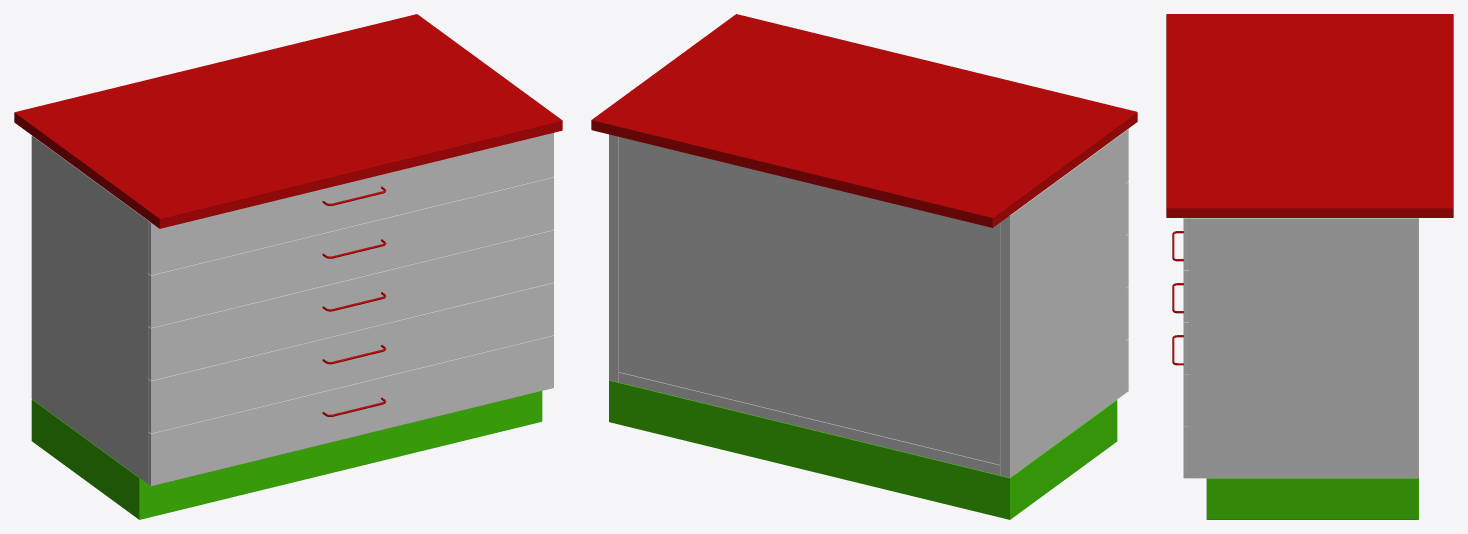
The model's file is Bench02.fbx.
3 views of the same model, side by side, from view 1: azimuth 30°, elevation 25°; view 2: azimuth 150°, elevation 25°; view 3: azimuth 270°, elevation 25° (orthographic).
Visible parts, largest first — view 1: Bench02, Drawer04, Drawer05, Drawer02, Drawer03, Drawer01; view 2: Bench02; view 3: Bench02, Drawer04, Drawer05, Drawer03, Drawer01, Drawer02.
Part boxes in pixels (<box>): Bench02: <box>14,14,562,519</box>; Drawer04: <box>148,282,553,433</box>; Drawer05: <box>148,335,553,486</box>; Drawer02: <box>148,177,553,327</box>; Drawer03: <box>148,230,553,380</box>; Drawer01: <box>148,133,553,275</box>; Bench02: <box>591,14,1137,519</box>; Bench02: <box>1166,14,1453,519</box>; Drawer04: <box>1172,283,1189,426</box>; Drawer05: <box>1172,335,1189,478</box>; Drawer03: <box>1172,231,1189,374</box>; Drawer01: <box>1183,218,1189,270</box>; Drawer02: <box>1183,270,1189,322</box>.
Size of the model in its own units: 100 by 62.5 by 75.
